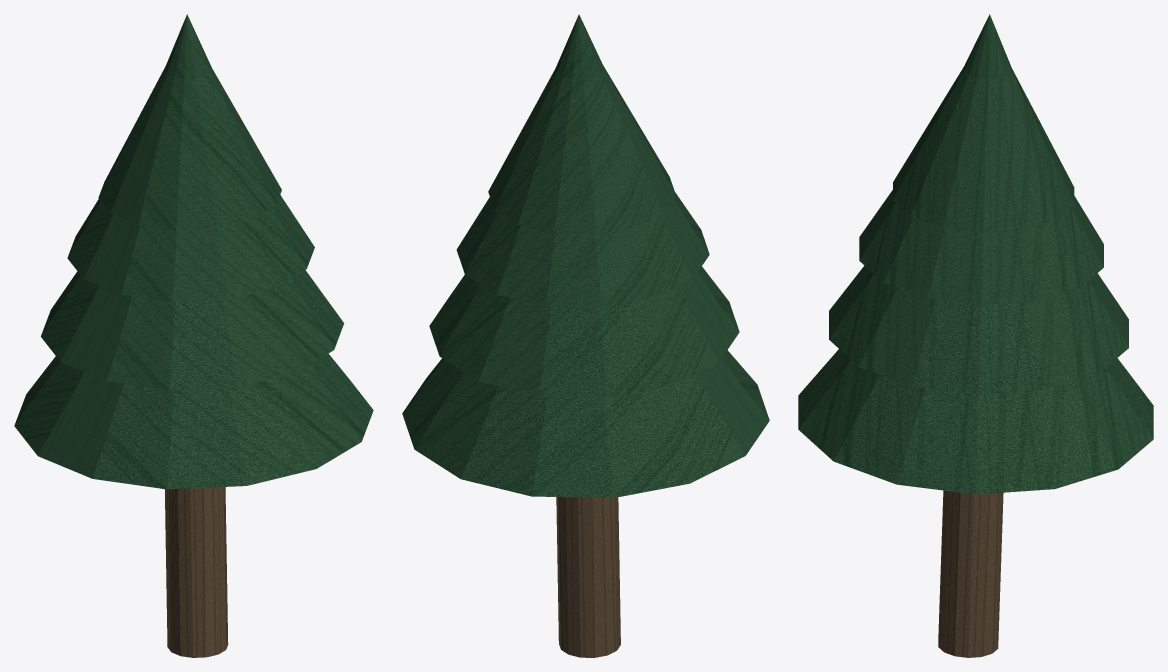
Rendered from fir tree.glb.
3 views of the same model, side by side, from view 1: azimuth 30°, elevation 25°; view 2: azimuth 150°, elevation 25°; view 3: azimuth 270°, elevation 25° (orthographic). The views are drawn at different scales.
Visible parts, largest first — view 1: needle_layer_0, needle_layer_1, needle_layer_3, needle_layer_2, trunk, needle_layer_4; view 2: needle_layer_0, needle_layer_1, needle_layer_3, needle_layer_2, trunk, needle_layer_4; view 3: needle_layer_0, needle_layer_1, needle_layer_3, needle_layer_2, trunk, needle_layer_4.
Boxes of the visible parts, left/top/right/bottom form: needle_layer_0: left=14, top=353, right=373, bottom=489; needle_layer_1: left=41, top=270, right=344, bottom=390; needle_layer_3: left=98, top=68, right=281, bottom=230; needle_layer_2: left=67, top=195, right=314, bottom=301; trunk: left=164, top=487, right=228, bottom=657; needle_layer_4: left=164, top=14, right=211, bottom=78; needle_layer_0: left=402, top=350, right=769, bottom=497; needle_layer_1: left=429, top=266, right=739, bottom=397; needle_layer_3: left=488, top=65, right=675, bottom=234; needle_layer_2: left=456, top=192, right=709, bottom=307; trunk: left=556, top=497, right=620, bottom=657; needle_layer_4: left=555, top=14, right=604, bottom=79; needle_layer_0: left=798, top=349, right=1153, bottom=494; needle_layer_1: left=829, top=266, right=1128, bottom=394; needle_layer_3: left=893, top=66, right=1074, bottom=232; needle_layer_2: left=859, top=190, right=1103, bottom=305; trunk: left=938, top=490, right=1003, bottom=657; needle_layer_4: left=964, top=14, right=1011, bottom=79.
Size of the model in its own units: 4.5 by 8.61 by 4.39.
2 materials, 2 textured.
